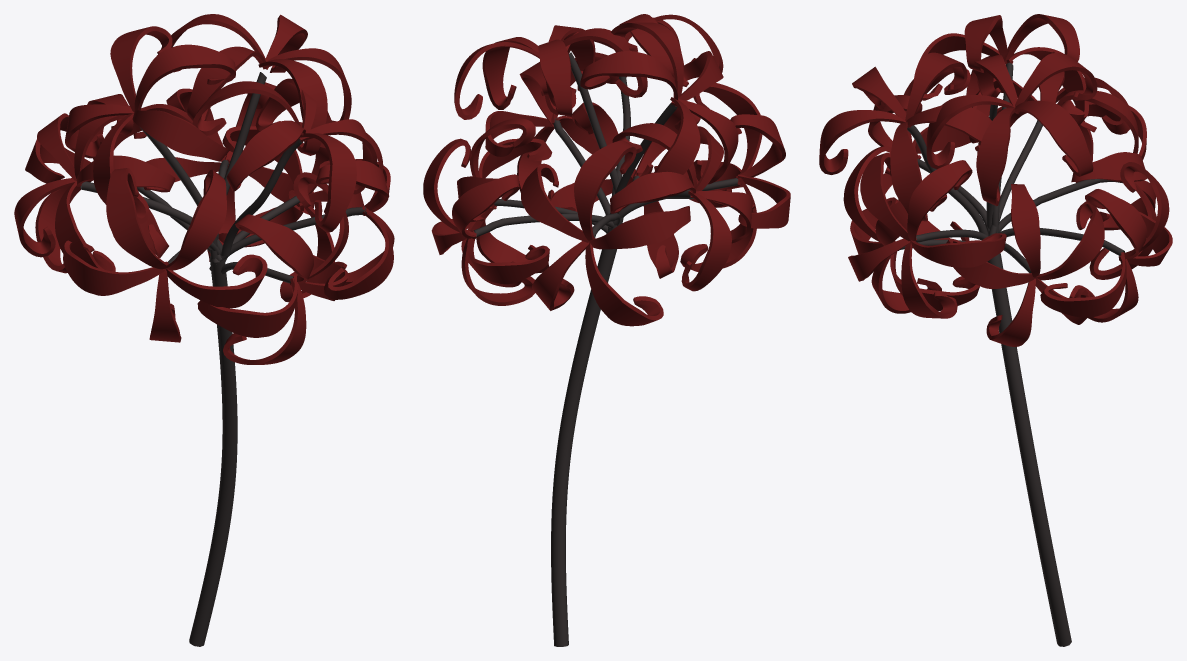
File: SM_Flower_V2.fbx
3 renders of one model, left to right at view 1: azimuth 30°, elevation 25°; view 2: azimuth 150°, elevation 25°; view 3: azimuth 270°, elevation 25°, orthographic. The views are drawn at different scales.
Visible parts, largest first — view 1: SM_Stem2, SM_Petals1, SM_Petals6, SM_Petals4, SM_Petals35, SM_Petals3, SM_Petals32, SM_Petals9, SM_Petals37, SM_Petals31, SM_Petals8, SM_Petals39 (+37 smaller); view 2: SM_Stem2, SM_Petals7, SM_Petals34, SM_Petals14, SM_Petals13, SM_Petals41, SM_Petals2, SM_Petals16, SM_Petals26, SM_Petals23, SM_Petals36, SM_Petals10 (+35 smaller); view 3: SM_Stem2, SM_Petals20, SM_Petals29, SM_Petals49, SM_Petals21, SM_Petals45, SM_Petals4, SM_Petals50, SM_Petals12, SM_Petals11, SM_Petals22, SM_Petals39 (+37 smaller).
Part boxes in pixels (left/top/right/bottom): SM_Stem2: left=189, top=256, right=237, bottom=646; SM_Petals1: left=106, top=168, right=168, bottom=269; SM_Petals6: left=165, top=169, right=226, bottom=270; SM_Petals4: left=299, top=133, right=356, bottom=232; SM_Petals35: left=132, top=110, right=229, bottom=161; SM_Petals3: left=134, top=44, right=235, bottom=110; SM_Petals32: left=226, top=120, right=305, bottom=191; SM_Petals9: left=235, top=214, right=313, bottom=283; SM_Petals37: left=63, top=240, right=168, bottom=295; SM_Petals31: left=197, top=275, right=297, bottom=337; SM_Petals8: left=166, top=254, right=267, bottom=308; SM_Petals39: left=258, top=59, right=327, bottom=155; SM_Stem2: left=551, top=227, right=616, bottom=646; SM_Petals7: left=574, top=140, right=636, bottom=240; SM_Petals34: left=589, top=206, right=690, bottom=249; SM_Petals14: left=585, top=242, right=663, bottom=326; SM_Petals13: left=580, top=51, right=677, bottom=99; SM_Petals41: left=681, top=191, right=731, bottom=291; SM_Petals2: left=521, top=163, right=595, bottom=242; SM_Petals16: left=610, top=171, right=695, bottom=213; SM_Petals26: left=452, top=174, right=519, bottom=239; SM_Petals23: left=538, top=39, right=572, bottom=117; SM_Petals36: left=640, top=97, right=700, bottom=176; SM_Petals10: left=467, top=238, right=549, bottom=284; SM_Stem2: left=987, top=253, right=1071, bottom=646; SM_Petals20: left=1013, top=100, right=1093, bottom=176; SM_Petals29: left=976, top=107, right=1015, bottom=206; SM_Petals49: left=907, top=160, right=972, bottom=241; SM_Petals21: left=910, top=233, right=1006, bottom=267; SM_Petals45: left=1010, top=184, right=1040, bottom=277; SM_Petals4: left=819, top=110, right=905, bottom=174; SM_Petals50: left=1035, top=201, right=1104, bottom=280; SM_Petals12: left=890, top=121, right=927, bottom=221; SM_Petals11: left=1040, top=252, right=1126, bottom=317; SM_Petals22: left=860, top=152, right=916, bottom=241; SM_Petals39: left=926, top=95, right=1014, bottom=169.
Bounding box in the file's own units: 0.4469 × 0.8814 × 0.4692.
